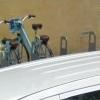Bicycle: (0, 10, 59, 67)
